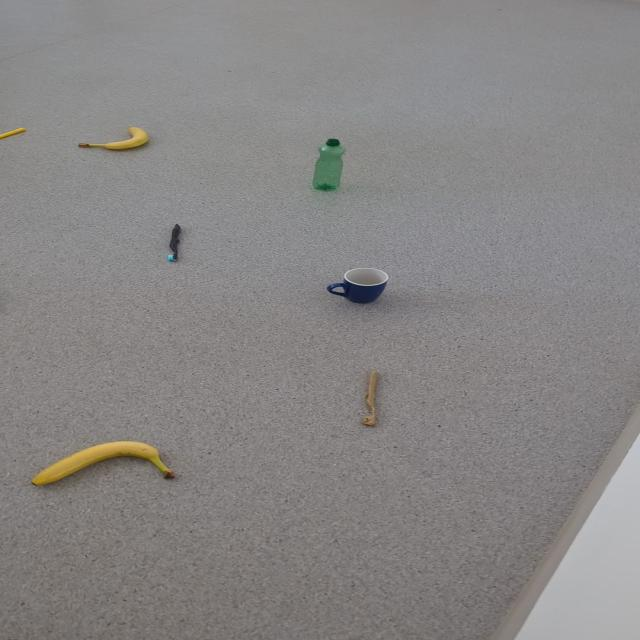banana: (30, 441, 175, 486), (77, 126, 149, 150)
bottle: (311, 138, 345, 192)
mug: (326, 266, 389, 304)
toothbrush: (359, 370, 382, 428), (166, 223, 181, 262), (0, 127, 27, 139)
